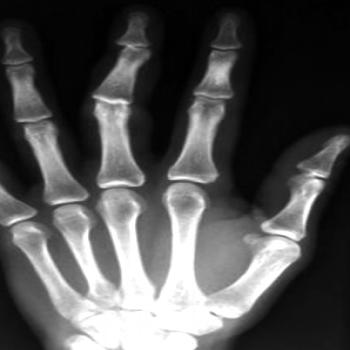Fracture: (104, 36, 150, 58)
